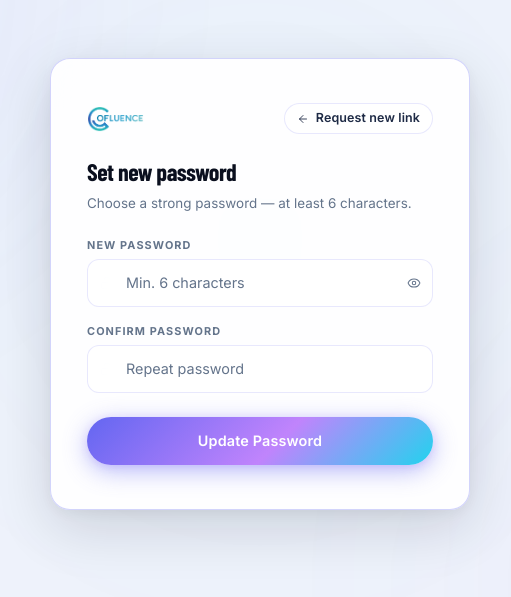
Test: ResetPassword › shows error when password is too short
The width and height of the screenshot is (511, 597).
In the password field with id "reset-pw": point(260, 283) [87,260,433,307], type "abc"
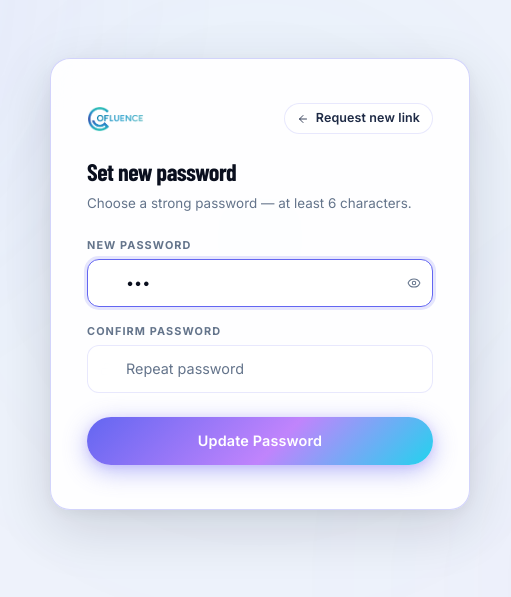
In the password field with id "reset-confirm": point(260, 369) [87,345,433,393], type "abc"
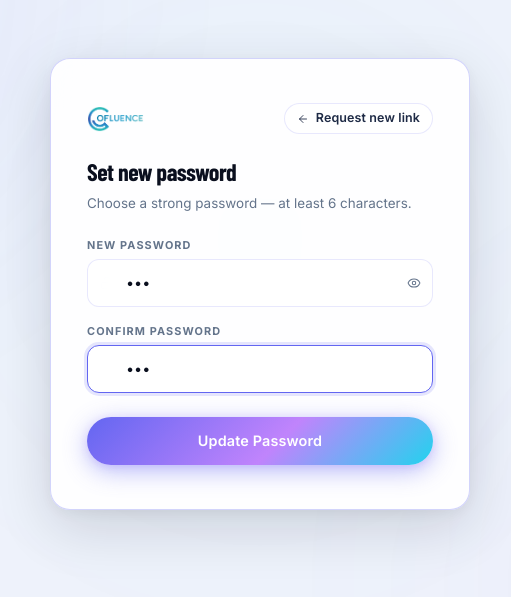
Click the button "Update Password": point(260, 441) [87,417,433,464]
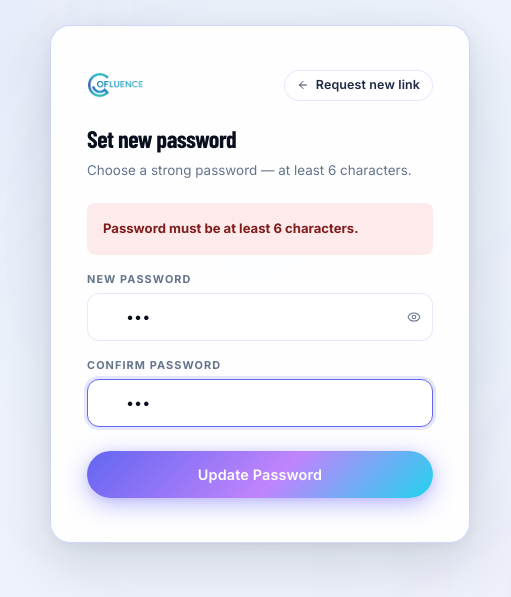
expect the text "Password must be at least 6 characters." is shown: met, box [87,203,433,255]
